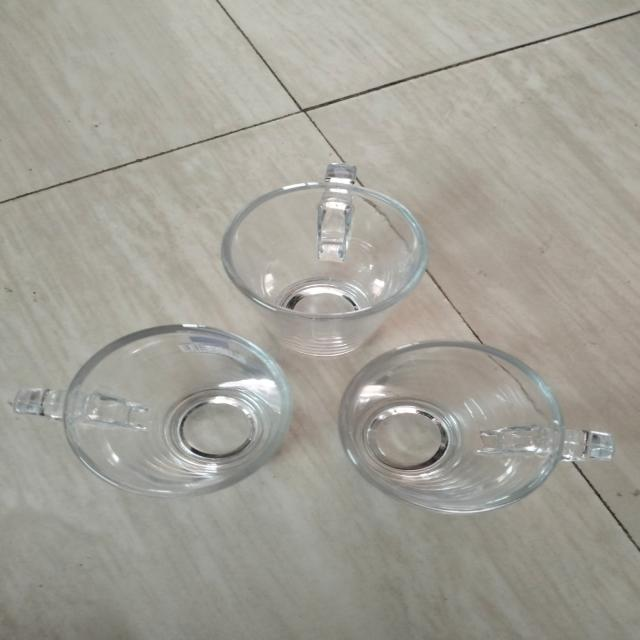glass-VX4N: (337, 338, 628, 522), (12, 324, 297, 504), (217, 152, 461, 361)
